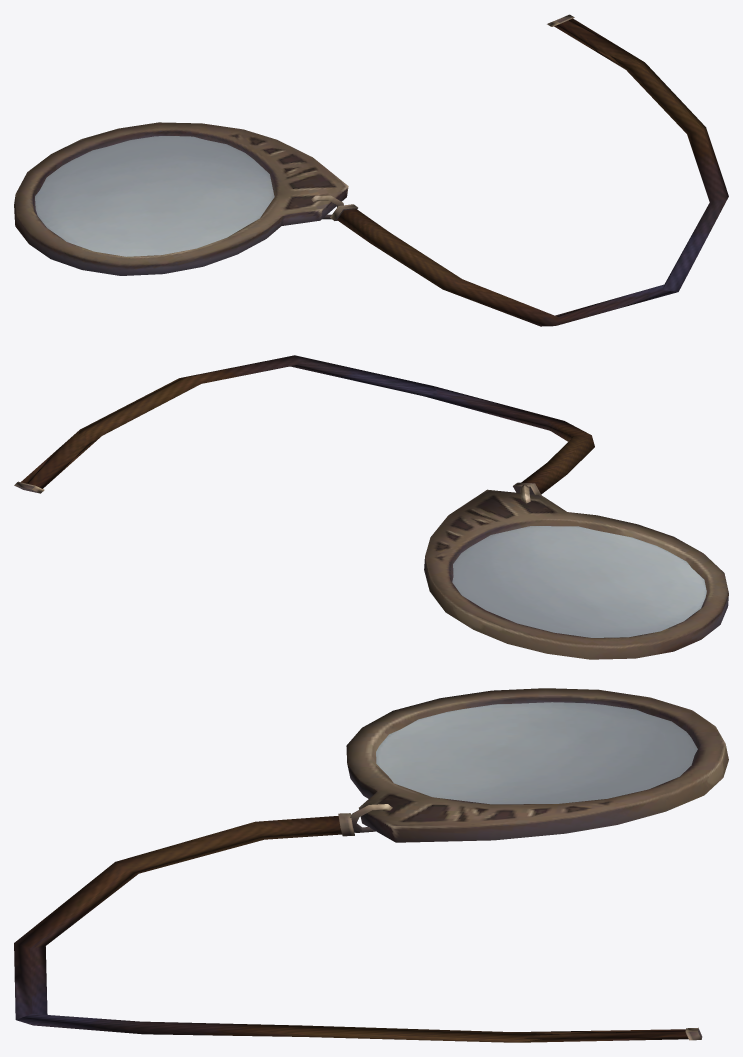
The model's file is Monocle_Ground.fbx.
The picture shows the model from 3 angles, top to bottom: view 1: azimuth 30°, elevation 25°; view 2: azimuth 150°, elevation 25°; view 3: azimuth 270°, elevation 25°; orthographic projection. The views are drawn at different scales.
Visible parts, largest first — view 1: 25_monockl_1_0_0; view 2: 25_monockl_1_0_0; view 3: 25_monockl_1_0_0.
Part boxes in pixels (x1=…): 25_monockl_1_0_0: x1=14, y1=14, x2=728, y2=326; 25_monockl_1_0_0: x1=14, y1=355, x2=728, y2=659; 25_monockl_1_0_0: x1=14, y1=688, x2=728, y2=1042.
Bounding box in the file's own units: 0.0669 × 0.00667 × 0.0508.
